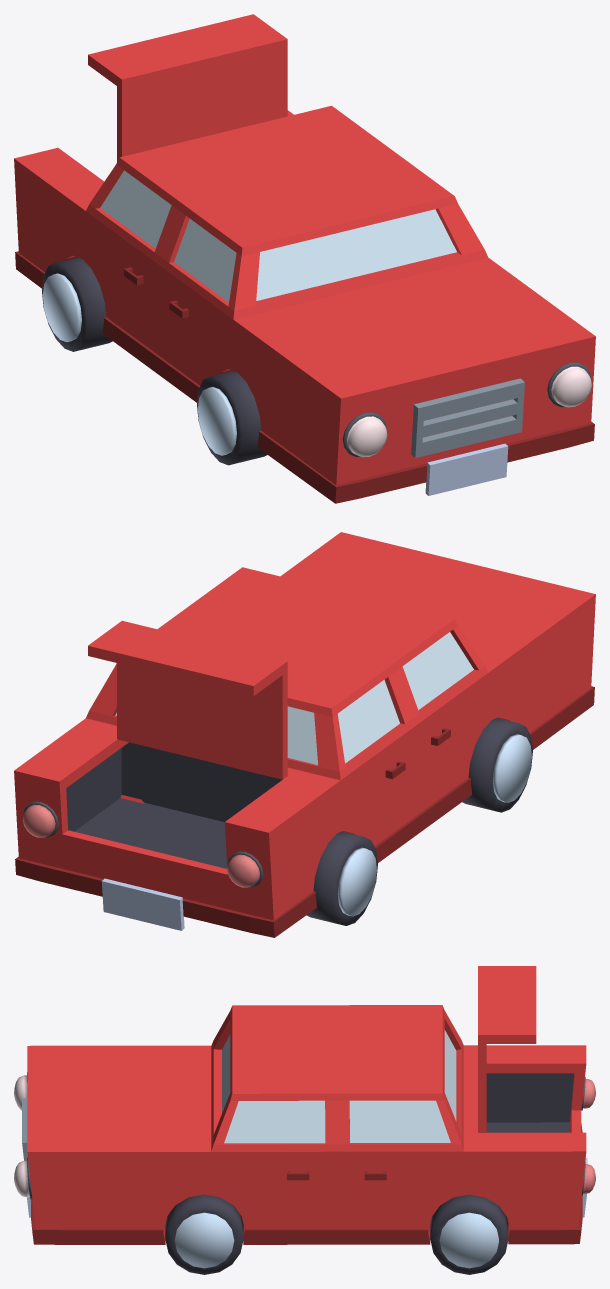
Rendered from red car truck.fbx.
3 views of the same model, one above another, from view 1: azimuth 30°, elevation 25°; view 2: azimuth 150°, elevation 25°; view 3: azimuth 270°, elevation 25° (orthographic). The views are drawn at different scales.
Visible parts, largest first — view 1: car, bagage, wheels, vent, front lights, plate; view 2: car, bagage, wheels, plate.001, back lights; view 3: car, wheels, bagage, front lights, back lights.
Part boxes in pixels (bbox=[...]): car: bbox=[14, 105, 595, 503]; bagage: bbox=[88, 14, 287, 161]; wheels: bbox=[42, 257, 267, 465]; vent: bbox=[411, 378, 524, 457]; front lights: bbox=[342, 362, 591, 457]; plate: bbox=[425, 443, 508, 495]; car: bbox=[14, 532, 595, 937]; bagage: bbox=[88, 620, 287, 779]; wheels: bbox=[306, 718, 532, 925]; plate.001: bbox=[101, 878, 184, 930]; back lights: bbox=[22, 801, 263, 887]; car: bbox=[27, 1005, 586, 1244]; wheels: bbox=[165, 1194, 508, 1274]; bagage: bbox=[478, 966, 536, 1132]; front lights: bbox=[14, 1072, 32, 1199]; back lights: bbox=[581, 1076, 595, 1195].
Size of the model in its own units: 235 by 188 by 463.
